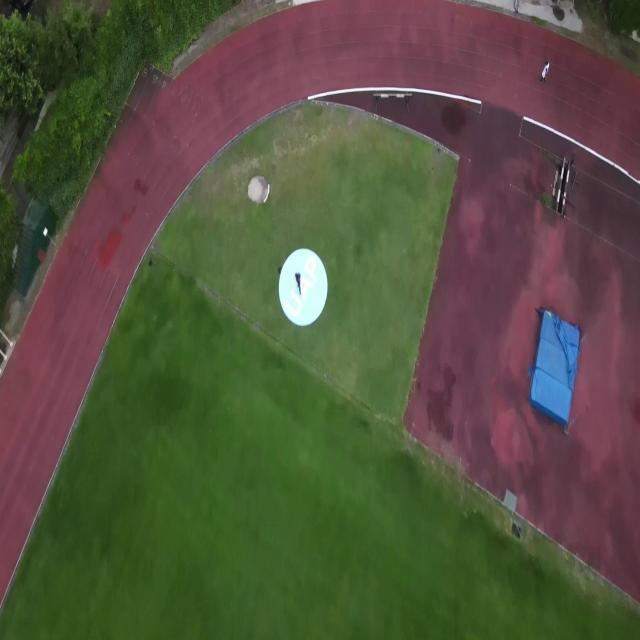p3rson: (540, 61, 549, 84), (295, 272, 301, 295)
